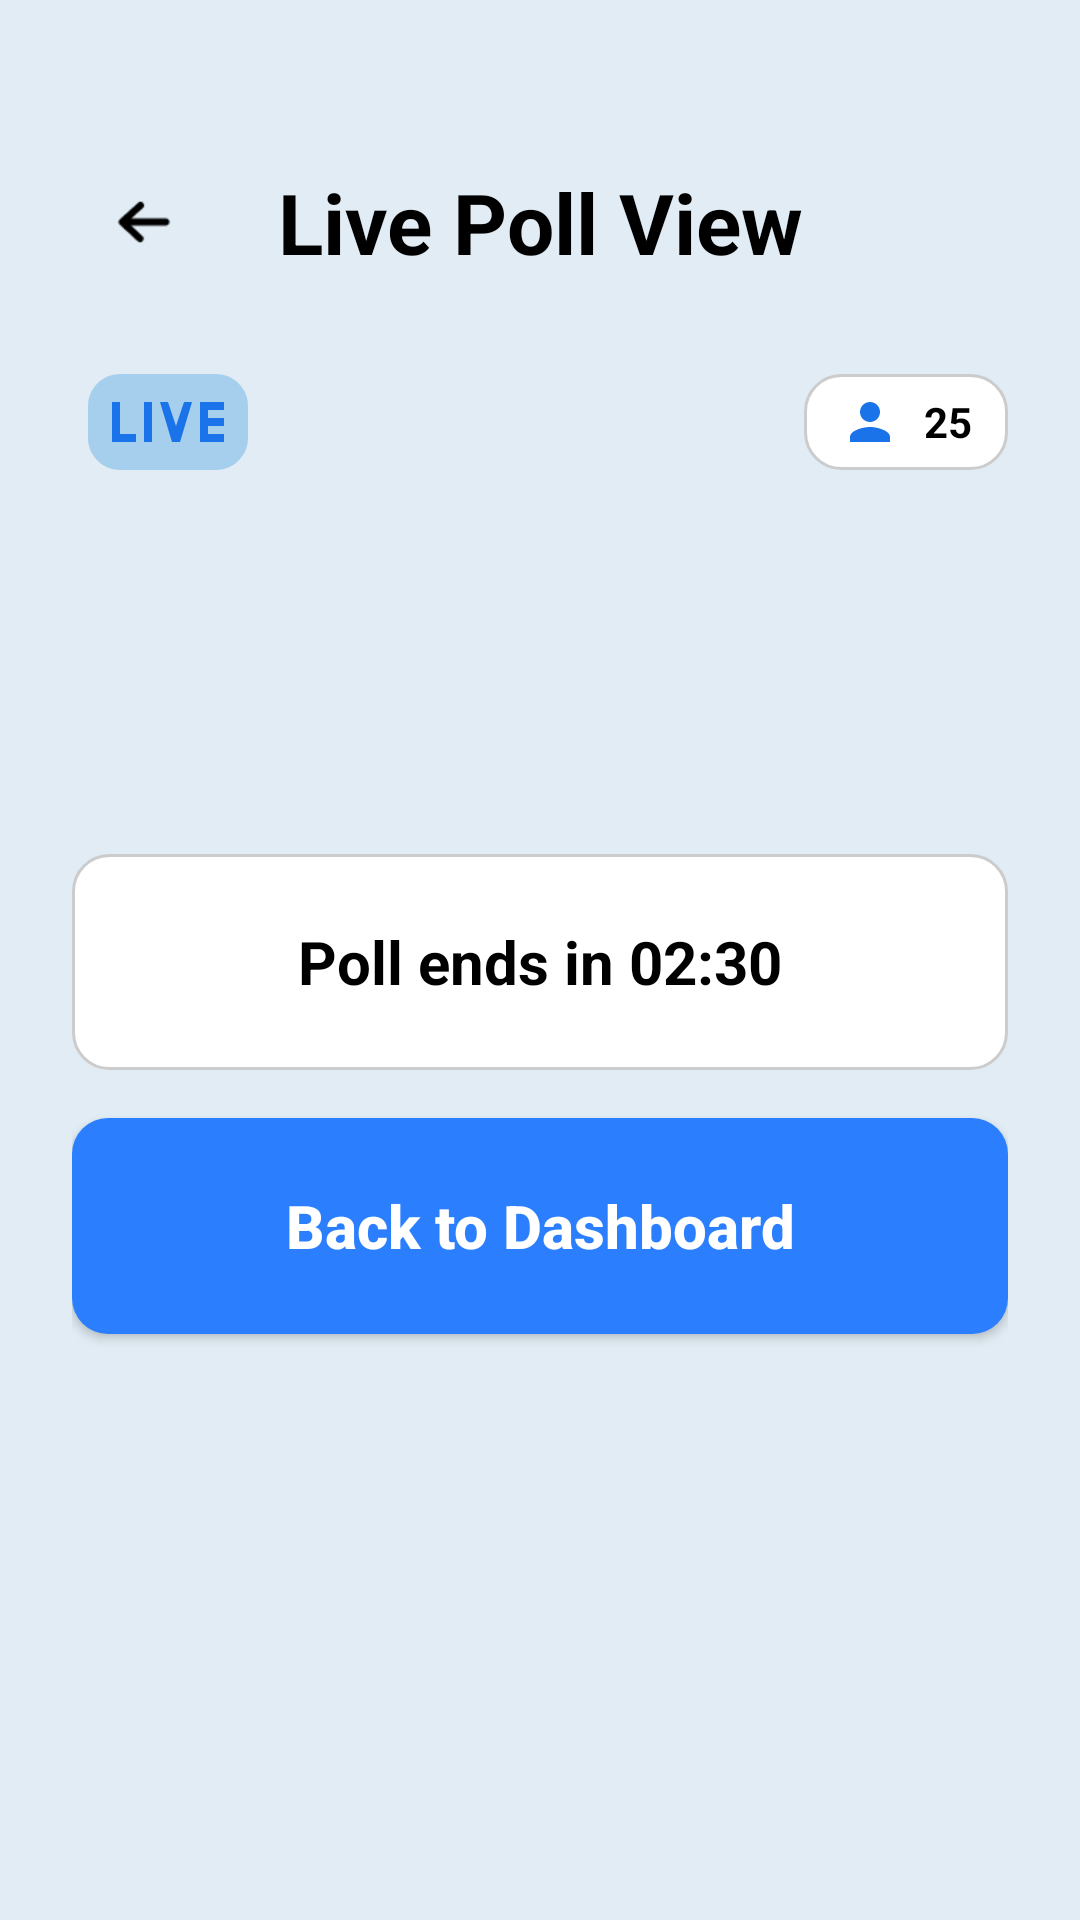

Named icons in this screenshot (1080*1920) and their centers, (x=x, y=y):
back arrow: (x=144, y=222)
participants: (x=870, y=422)
